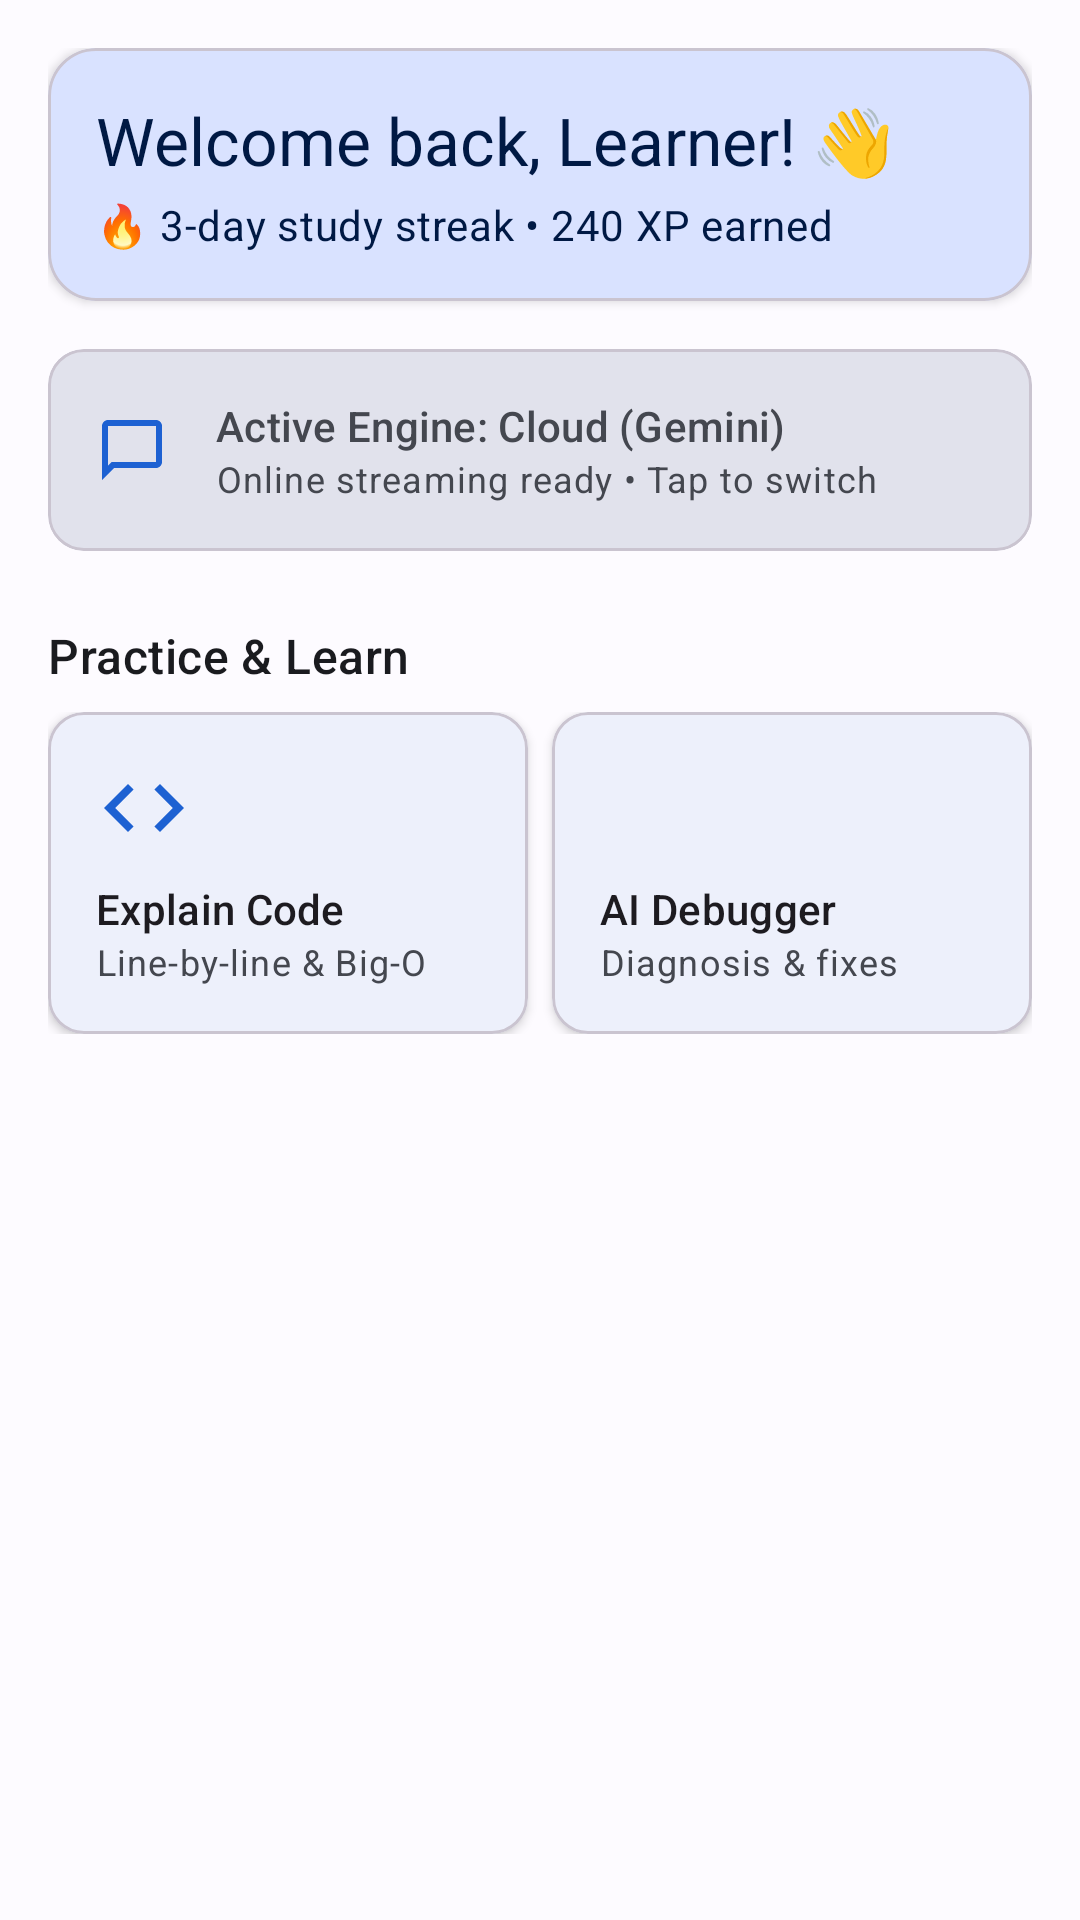

Screen size 1080 x 1920. Icon name, then its box in pixels as (x1, y1, x2, y2):
chat: (102, 420, 162, 480)
